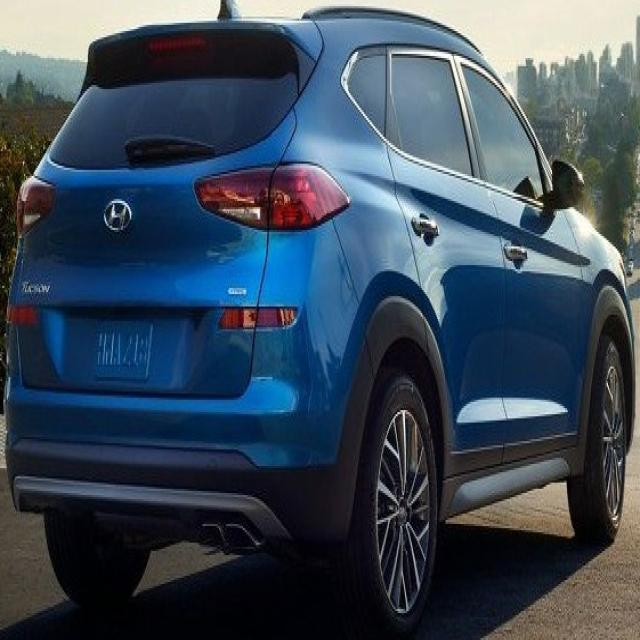blue: (6, 0, 634, 617)
